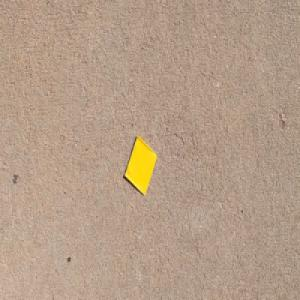PlasticPart: (123, 133, 157, 196)
